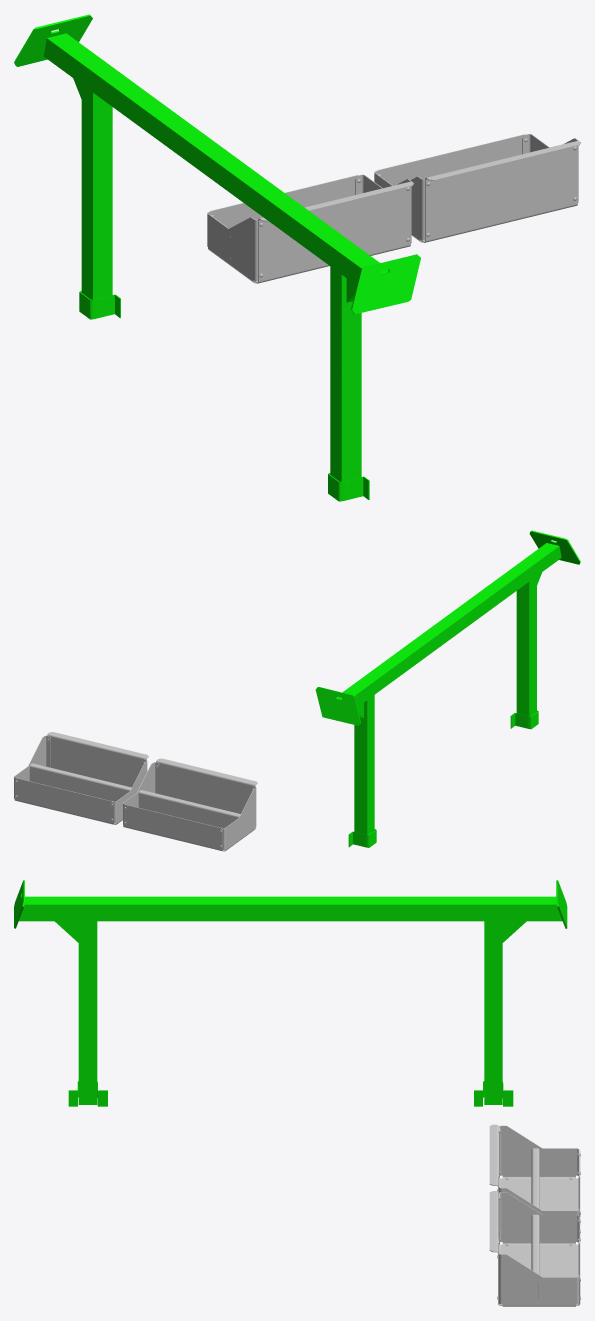
The model's file is pup_extras.glb.
3 renders of one model, top to bottom at view 1: azimuth 30°, elevation 25°; view 2: azimuth 150°, elevation 25°; view 3: azimuth 270°, elevation 25°, orthographic. The views are drawn at different scales.
Visible parts, largest first — view 1: ladder-rack, lowside-tray-2, lowside-tray-3; view 2: ladder-rack, lowside-tray-3, lowside-tray-2; view 3: ladder-rack, lowside-tray-2, lowside-tray-3.
Part boxes in pixels (left/top/right/bottom): ladder-rack: left=14, top=14, right=420, bottom=501; lowside-tray-2: left=374, top=134, right=580, bottom=242; lowside-tray-3: left=207, top=174, right=413, bottom=283; ladder-rack: left=315, top=530, right=580, bottom=847; lowside-tray-3: left=123, top=758, right=257, bottom=851; lowside-tray-2: left=14, top=732, right=148, bottom=824; ladder-rack: left=14, top=880, right=567, bottom=1106; lowside-tray-2: left=489, top=1191, right=580, bottom=1306; lowside-tray-3: left=489, top=1124, right=580, bottom=1238.
Bounding box in the file's own units: 5.33 × 2.69 × 6.12.
Materials: 3 (1 with a texture image).
